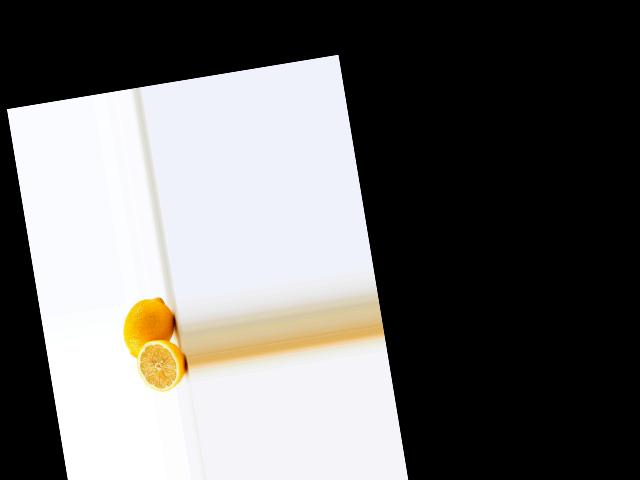lemon: (119, 292, 185, 365)
